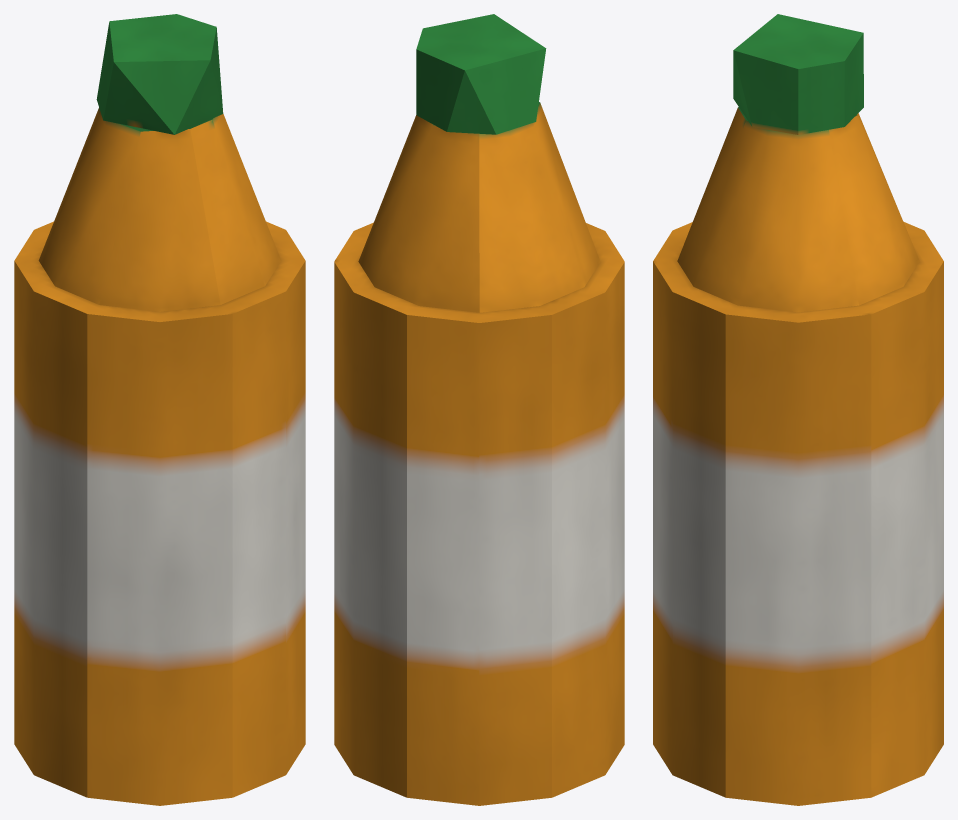
The model's file is Item_Juice.fbx.
3 views of the same model, side by side, from view 1: azimuth 30°, elevation 25°; view 2: azimuth 150°, elevation 25°; view 3: azimuth 270°, elevation 25° (orthographic).
Parts seen in each view (by area): view 1: Item_Juice; view 2: Item_Juice; view 3: Item_Juice.
Part boxes in pixels (x1=…): Item_Juice: x1=14, y1=14, x2=305, y2=805; Item_Juice: x1=334, y1=14, x2=624, y2=805; Item_Juice: x1=653, y1=14, x2=943, y2=805.
Bounding box in the file's own units: 0.12 × 0.32 × 0.12.
1 material, 1 textured.
